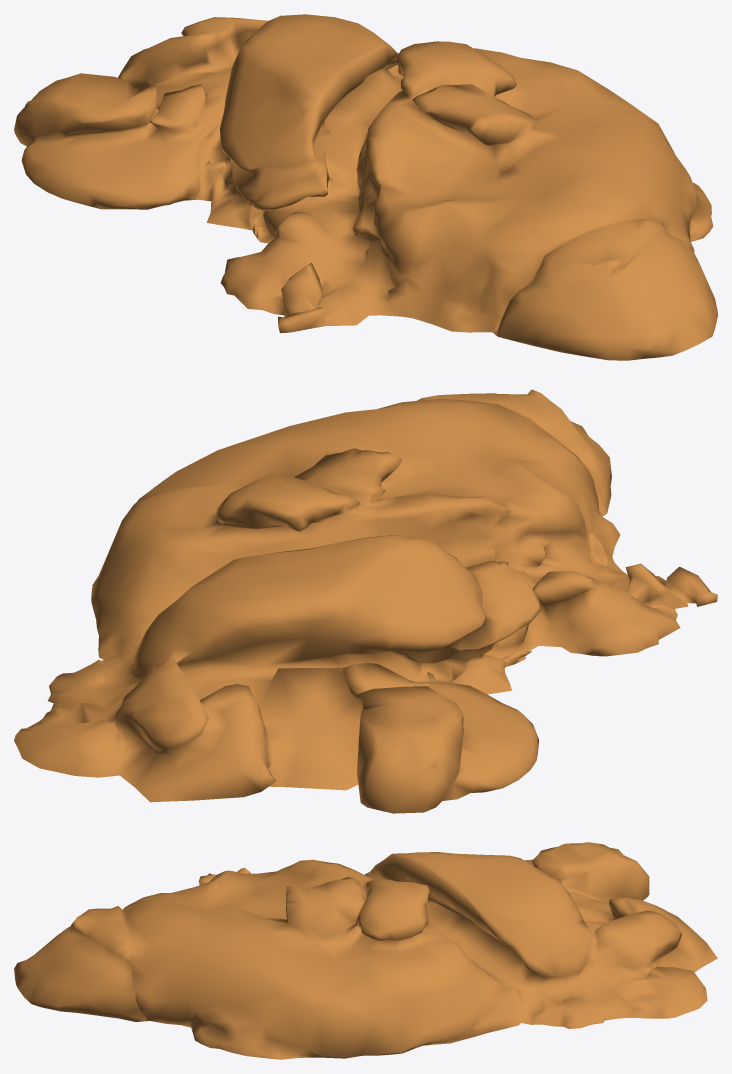
Rendered from MSH_Rocks_Boulder_24.FBX.
3 renders of one model, top to bottom at view 1: azimuth 30°, elevation 25°; view 2: azimuth 150°, elevation 25°; view 3: azimuth 270°, elevation 25°, orthographic. The views are drawn at different scales.
Parts seen in each view (by area): view 1: MESH_LOD0; view 2: MESH_LOD0; view 3: MESH_LOD0.
Boxes of the visible parts, left/top/right/bottom form: MESH_LOD0: left=14, top=14, right=717, bottom=360; MESH_LOD0: left=14, top=389, right=717, bottom=813; MESH_LOD0: left=14, top=842, right=717, bottom=1059.
Size of what is drawn, in the model's own units: 158 by 37.03 by 244.
